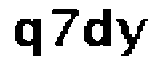7: (49, 6, 79, 48)
d: (82, 7, 113, 49)
q: (12, 18, 44, 60)
y: (114, 17, 147, 60)
